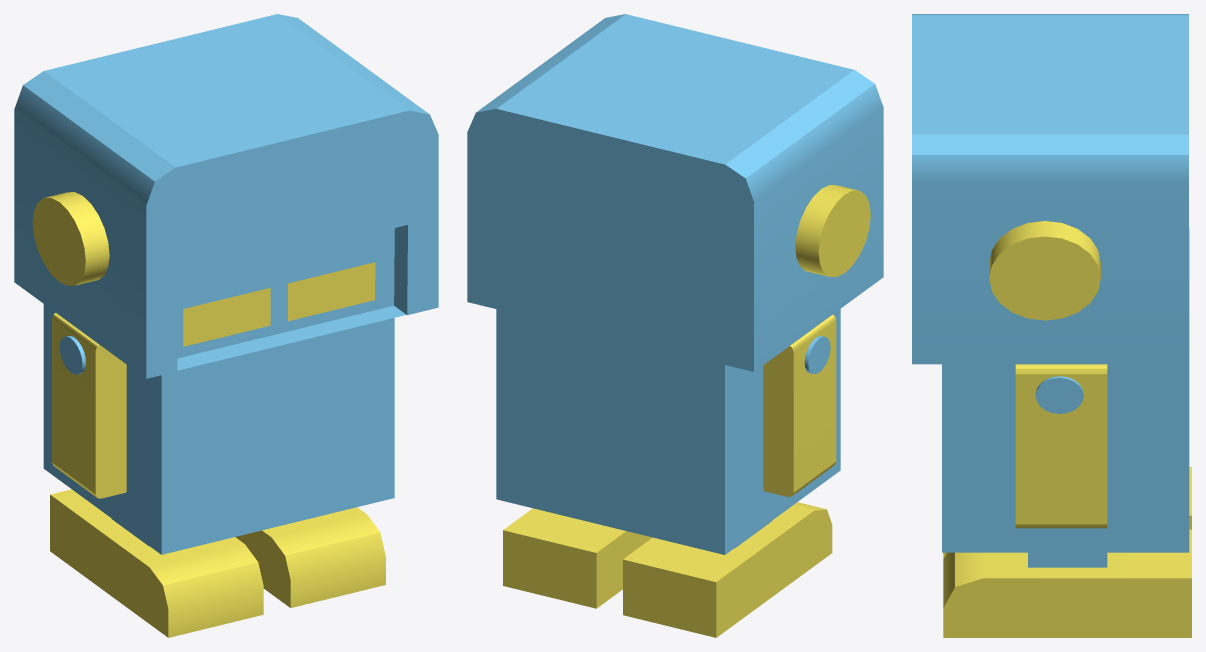
File: jiqiren.fbx
3 views of the same model, side by side, from view 1: azimuth 30°, elevation 25°; view 2: azimuth 150°, elevation 25°; view 3: azimuth 270°, elevation 25° (orthographic). The views are drawn at different scales.
Parts seen in each view (by area): view 1: polySurface91, jiqiren_group1_polySurface96, polySurface93; view 2: polySurface91, jiqiren_group1_polySurface96, polySurface93; view 3: polySurface91, jiqiren_group1_polySurface96, polySurface92.
Part boxes in pixels (bbox=[...]): polySurface91: bbox=[14, 14, 438, 554]; jiqiren_group1_polySurface96: bbox=[32, 192, 385, 637]; polySurface93: bbox=[59, 336, 85, 374]; polySurface91: bbox=[467, 14, 883, 554]; jiqiren_group1_polySurface96: bbox=[503, 185, 870, 637]; polySurface93: bbox=[804, 336, 830, 373]; polySurface91: bbox=[912, 14, 1189, 567]; jiqiren_group1_polySurface96: bbox=[943, 221, 1191, 637]; polySurface92: bbox=[1035, 376, 1083, 413].
Size of the model in its own units: 1.5 by 1 by 2.
